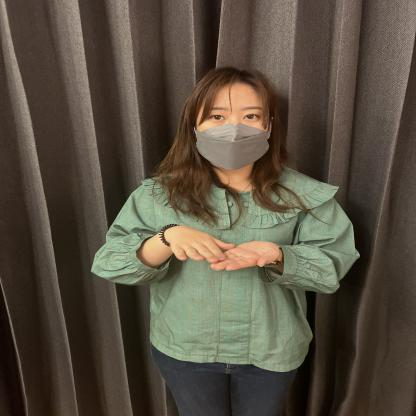Love: (79, 179, 413, 332)
